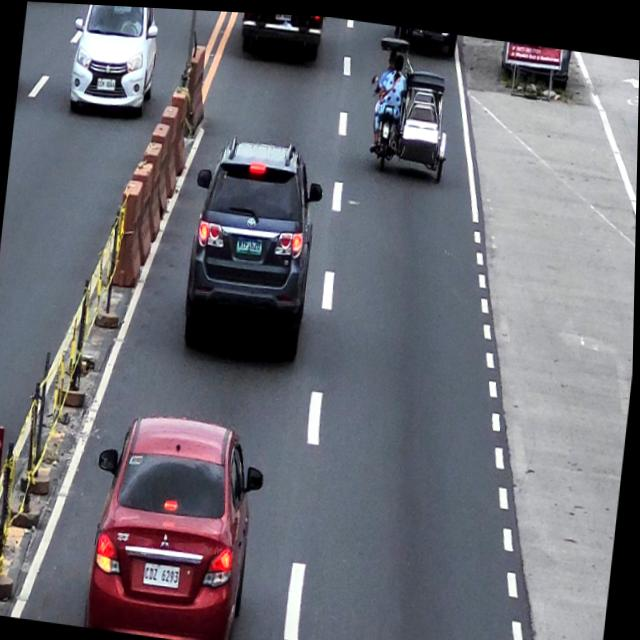Car: (82, 404, 270, 640), (179, 129, 328, 362)
License-Plate: (144, 560, 183, 586), (237, 234, 263, 254)
Tricycle: (363, 31, 457, 180)
